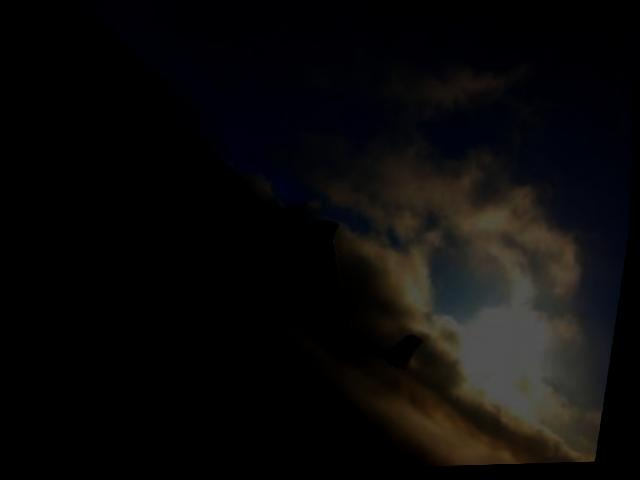uav: (282, 206, 448, 387)
